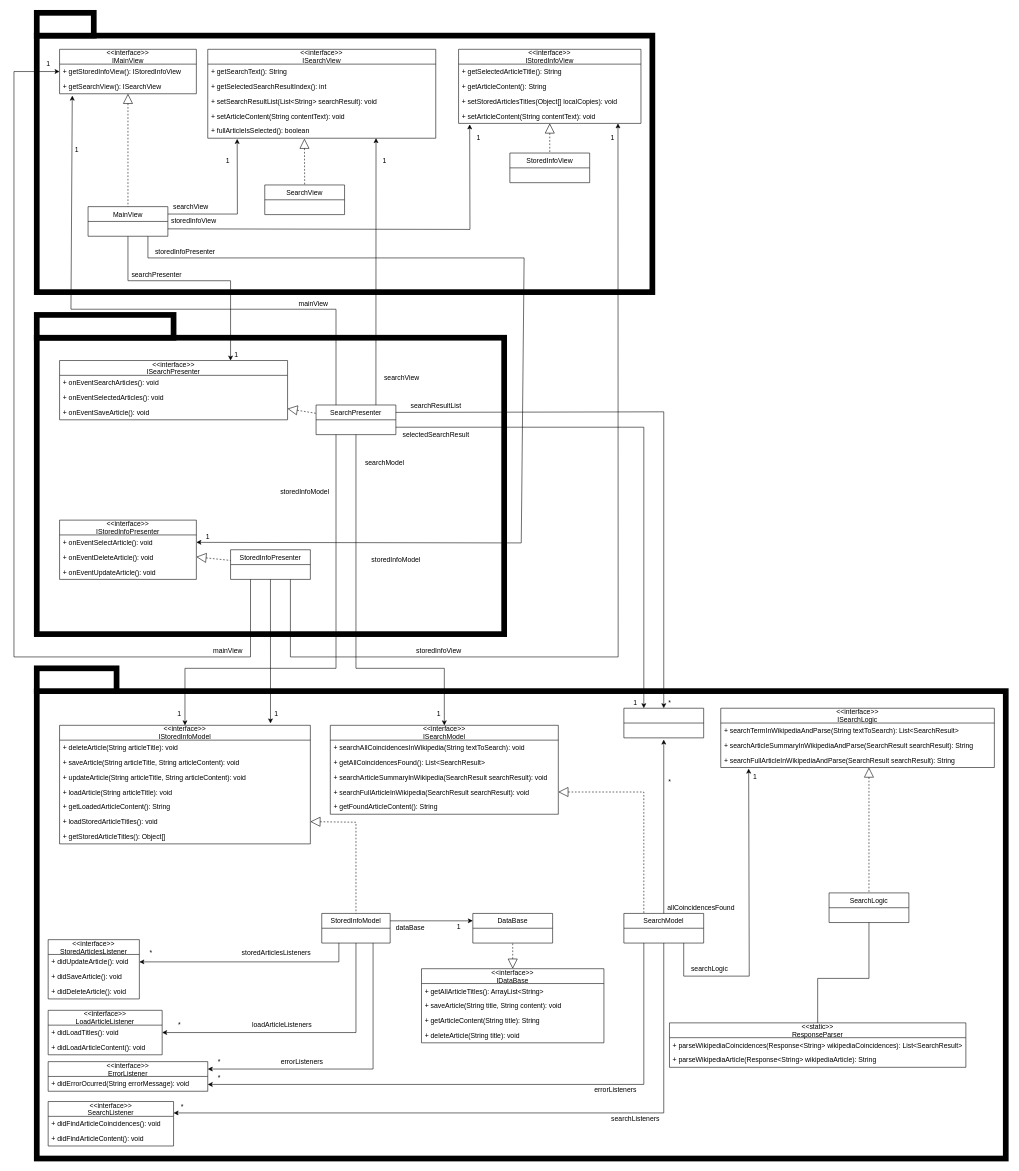
Some shapes in this 1019 by 1171 pixel diagram are drawn without their labels. The centre of each missing label's shape, as x and y in pixels:
"MODELO" goes at point 76,679.
"PRESENTADOR" goes at point 105,326.
"SearchResult" goes at point 663,723.
"VISTA" goes at point 65,24.
